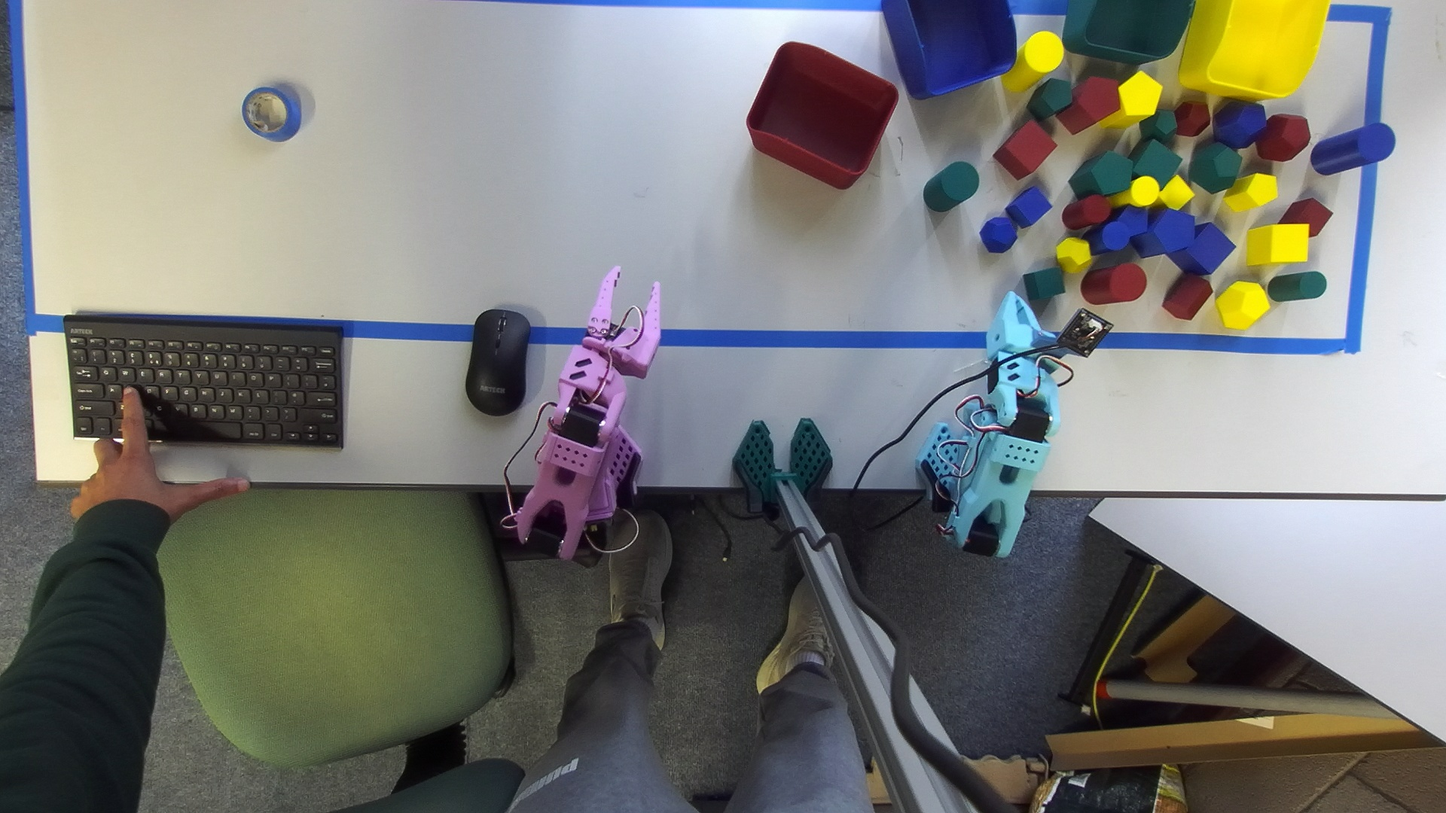bin: (746, 42, 898, 189), (1178, 0, 1329, 100), (881, 0, 1016, 99), (1061, 0, 1194, 64)
cube: (993, 118, 1056, 179), (1169, 222, 1235, 276), (1246, 224, 1308, 265), (1130, 139, 1181, 188), (1279, 197, 1332, 236), (1005, 187, 1051, 227), (1023, 266, 1064, 300), (1158, 175, 1194, 209)
cylinder: (1310, 123, 1395, 175), (1001, 31, 1063, 93), (923, 161, 979, 212), (1081, 263, 1146, 304), (1061, 193, 1111, 230), (1267, 272, 1326, 302), (1086, 221, 1130, 255)
dodecahedron: (1189, 142, 1241, 193), (1216, 281, 1270, 329), (1255, 114, 1309, 161), (1213, 101, 1266, 148), (979, 216, 1017, 252), (1174, 100, 1210, 136), (1056, 236, 1091, 273), (1139, 108, 1176, 142)
gripper: (582, 266, 660, 378), (986, 291, 1041, 357)
hexagonal: (1058, 77, 1120, 133), (1101, 72, 1161, 127), (1130, 208, 1194, 257), (1069, 151, 1131, 198), (1163, 273, 1212, 320), (1223, 173, 1277, 211), (1027, 78, 1072, 120), (1115, 206, 1148, 236)
